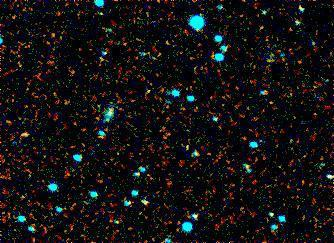star: (130, 77, 160, 107)
